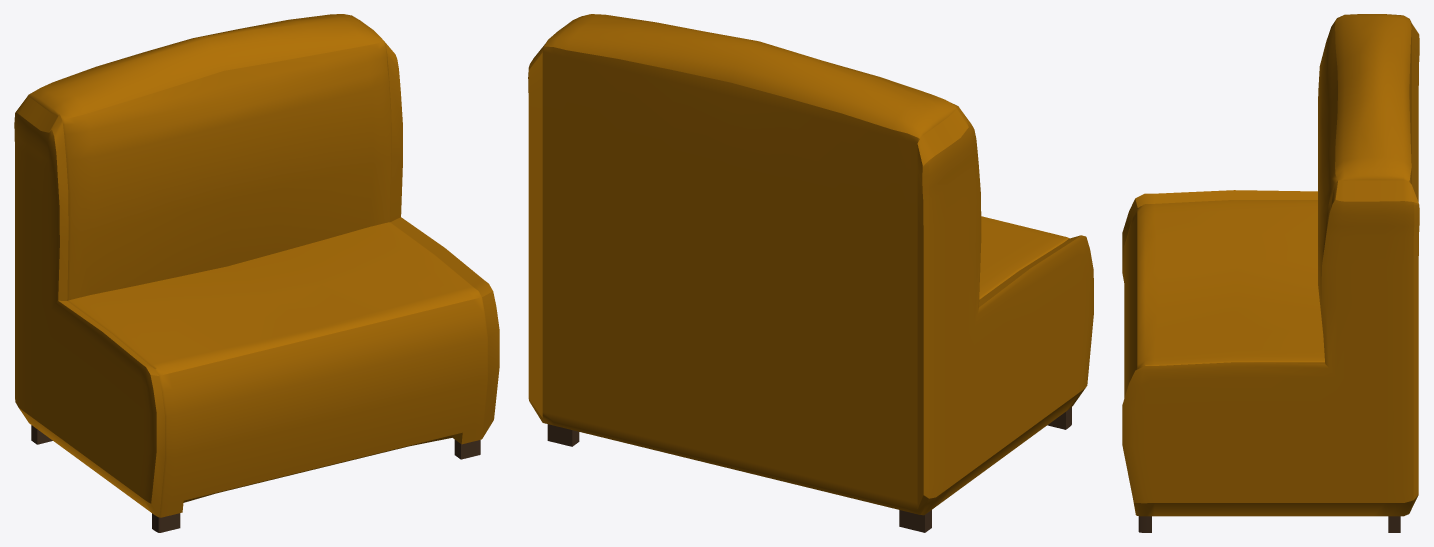
The model's file is psyCouch02.fbx.
The picture shows the model from 3 angles, left to right: view 1: azimuth 30°, elevation 25°; view 2: azimuth 150°, elevation 25°; view 3: azimuth 270°, elevation 25°; orthographic projection. The views are drawn at different scales.
Visible parts, largest first — view 1: couch_geo; view 2: couch_geo; view 3: couch_geo.
Boxes of the visible parts, box(x1,y1,x2,y2) form: couch_geo: box(14, 14, 499, 532); couch_geo: box(528, 14, 1093, 532); couch_geo: box(1122, 14, 1419, 532).
Bounding box in the file's own units: 204 × 209 × 147.
